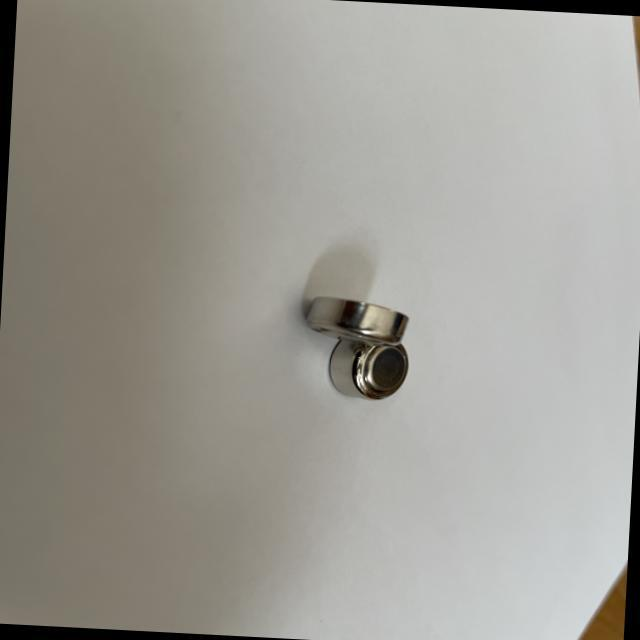COIN: (302, 296, 410, 348), (328, 334, 408, 402)
